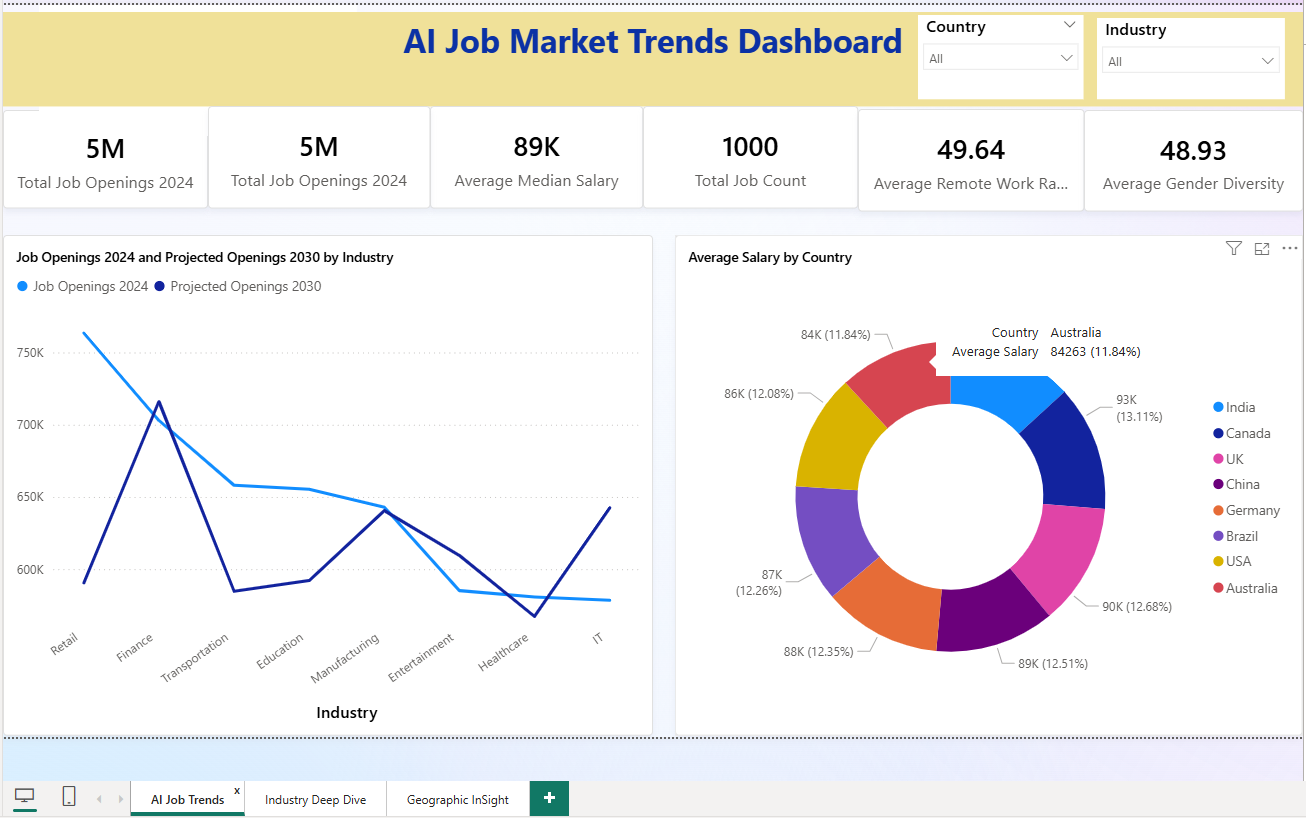

The dashboard page shown, as its layout file describes it:
{"tool":"powerbi","page":{"name":"AI Job Trends","canvas":[1280,720],"ordinal":0},"visuals":[{"type":"card","fields":{"Values":["Sum(sample_ai_job_trends_dataset.Job_Openings_2024)"]},"box":[0,103.4,201.8,97.5],"z":0},{"type":"textbox","box":[35,0,313.2,129.4],"z":1000},{"type":"textbox","box":[0,6.9,1280,92.6],"z":2000},{"type":"slicer","fields":{"Values":["sample_ai_job_trends_dataset.Country"]},"box":[900.9,9.8,163.4,82.7],"z":3000},{"type":"card","fields":{"Values":["sample_ai_job_trends_dataset.Average Salary"]},"box":[420.4,99.4,209.7,101.4],"z":4000},{"type":"card","fields":{"Values":["Sum(sample_ai_job_trends_dataset.Job Openings 2024)"]},"box":[201.8,99.4,218.6,101.4],"z":5000},{"type":"card","fields":{"Values":["sample_ai_job_trends_dataset.Job Count"]},"box":[630.2,99.4,211.7,101.4],"z":6000},{"type":"card","fields":{"Values":["sample_ai_job_trends_dataset.Average Remote Work Ratio %"]},"box":[841.8,102.4,222.5,101.4],"z":7000},{"type":"slicer","fields":{"Values":["sample_ai_job_trends_dataset.Industry"]},"box":[1077.2,12.8,185.1,79.8],"z":8000},{"type":"lineChart","fields":{"Y":["Sum(sample_ai_job_trends_dataset.Job Openings 2024)","Sum(sample_ai_job_trends_dataset.Projected Openings 2030)"],"Category":["sample_ai_job_trends_dataset.Industry"]},"box":[0,226.5,640,493.3],"z":9000},{"type":"card","fields":{"Values":["sample_ai_job_trends_dataset.Average Gender Diversity"]},"box":[1064.4,103.4,215.6,100.4],"z":10000},{"type":"donutChart","fields":{"Category":["sample_ai_job_trends_dataset.Country"],"Y":["sample_ai_job_trends_dataset.Average Salary"]},"box":[661.7,226.5,618.3,493.3],"z":11000}]}

Visuals, with their boxes on the page's 1280x720 design canvas (x1, y1, x2, y2). These are canvas units, not pixel positions in the 1306x818 screenshot, which may show the page scaled, cropped or inside an application window:
card - Sum(sample_ai_job_trends_dataset.Job_Openings_2024): box(0, 103, 202, 201)
textbox: box(35, 0, 348, 129)
textbox: box(0, 7, 1280, 100)
slicer - sample_ai_job_trends_dataset.Country: box(901, 10, 1064, 92)
card - sample_ai_job_trends_dataset.Average Salary: box(420, 99, 630, 201)
card - Sum(sample_ai_job_trends_dataset.Job Openings 2024): box(202, 99, 420, 201)
card - sample_ai_job_trends_dataset.Job Count: box(630, 99, 842, 201)
card - sample_ai_job_trends_dataset.Average Remote Work Ratio %: box(842, 102, 1064, 204)
slicer - sample_ai_job_trends_dataset.Industry: box(1077, 13, 1262, 93)
lineChart - Sum(sample_ai_job_trends_dataset.Job Openings 2024) x Sum(sample_ai_job_trends_dataset.Projected Openings 2030): box(0, 226, 640, 720)
card - sample_ai_job_trends_dataset.Average Gender Diversity: box(1064, 103, 1280, 204)
donutChart - sample_ai_job_trends_dataset.Country x sample_ai_job_trends_dataset.Average Salary: box(662, 226, 1280, 720)
